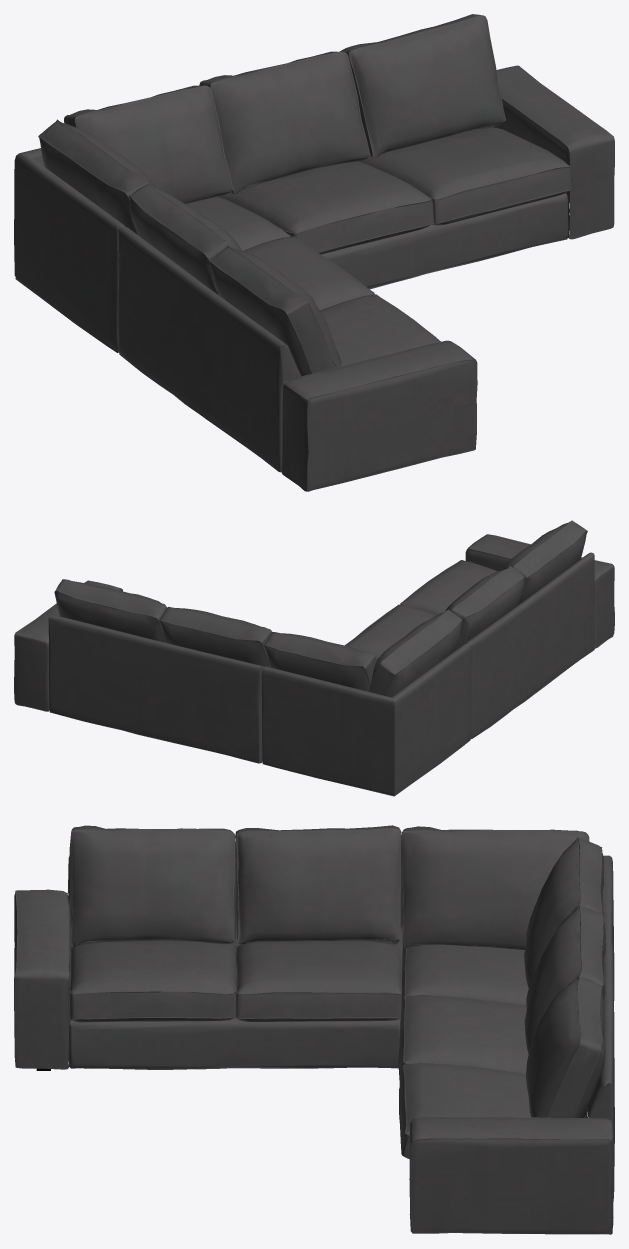
File: ikea-kivik-corner4.glb
3 renders of one model, top to bottom at view 1: azimuth 30°, elevation 25°; view 2: azimuth 150°, elevation 25°; view 3: azimuth 270°, elevation 25°, orthographic. The views are drawn at different scales.
Size of the model in its own units: 2.56 by 0.8353 by 2.58.
Materials: 1 (1 with a texture image).
